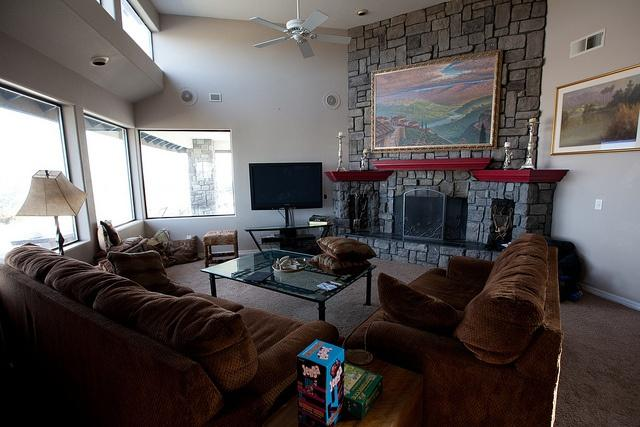AIO PC-Monitor-TV: (247, 161, 324, 210)
Meja: (198, 248, 377, 321)
